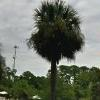Palm tree: (26, 1, 83, 91)
